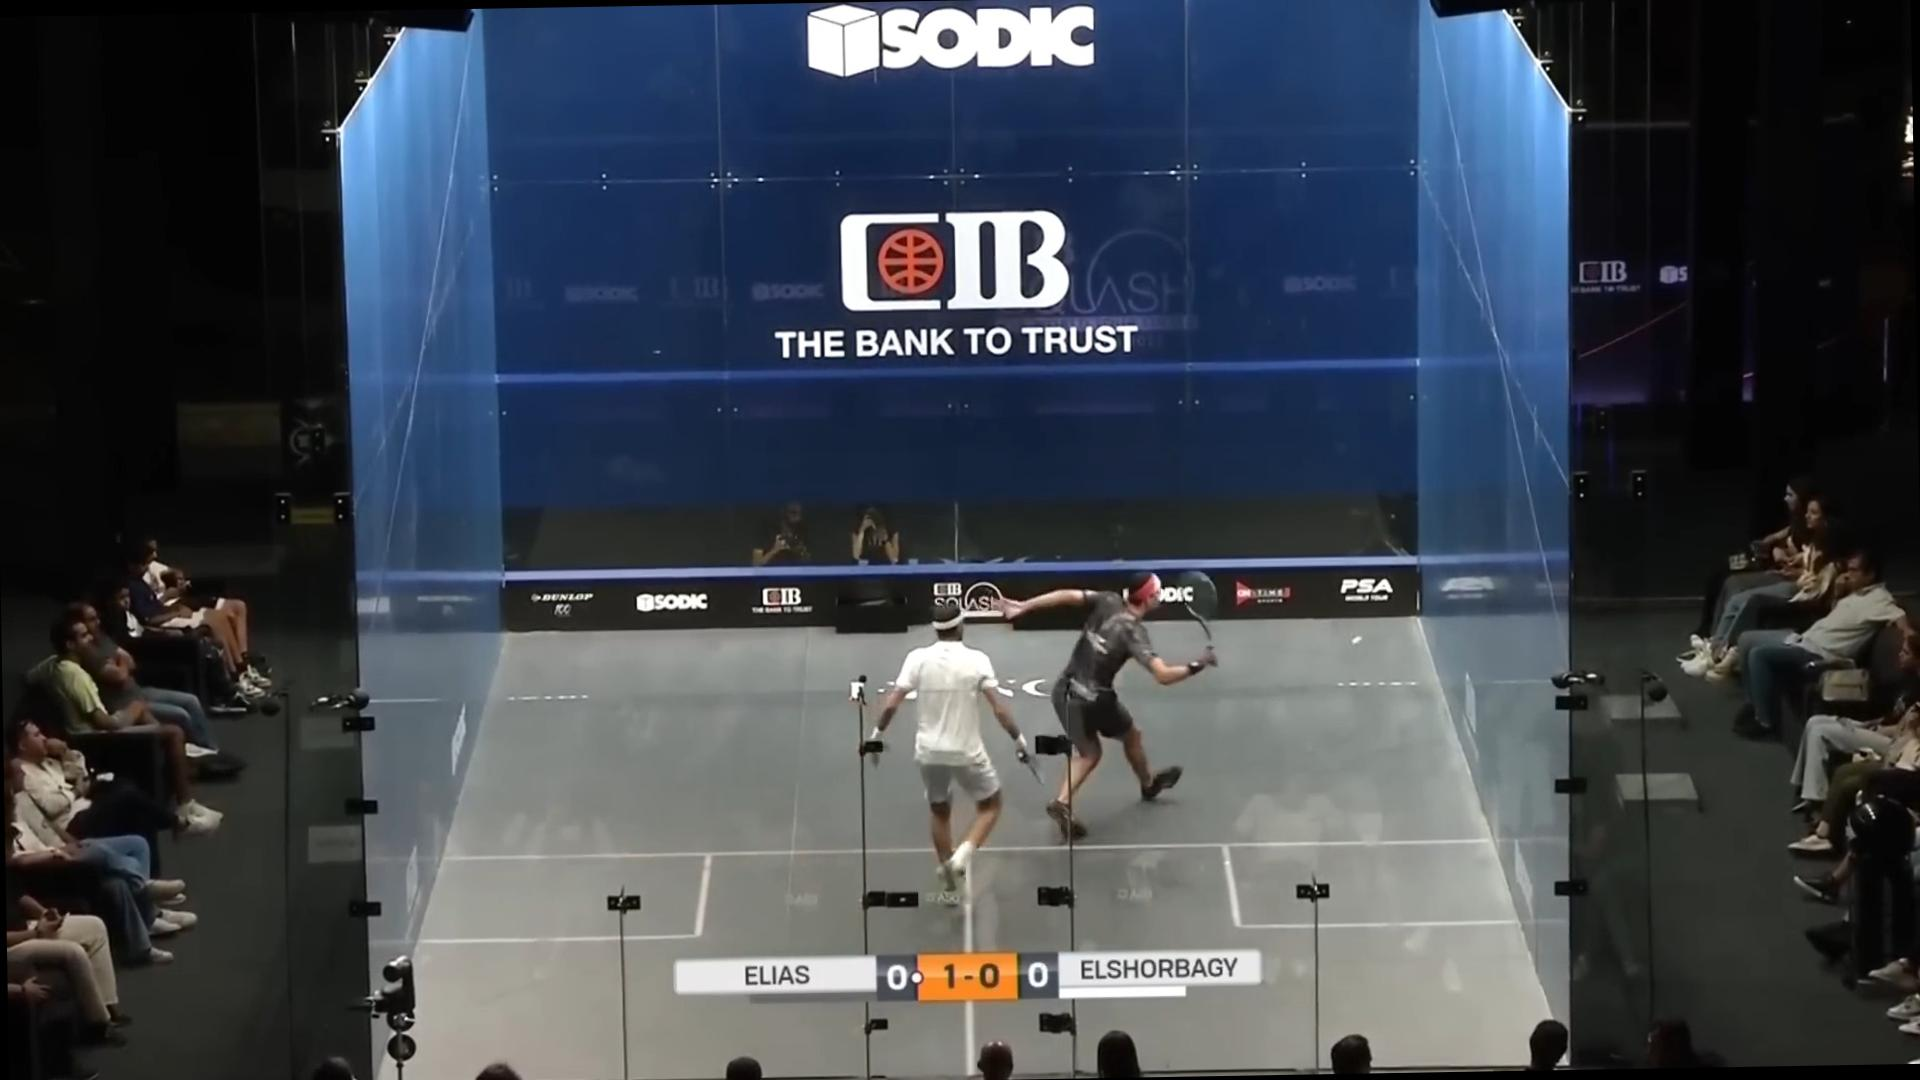Squash-Ball: (1345, 629, 1367, 649)
